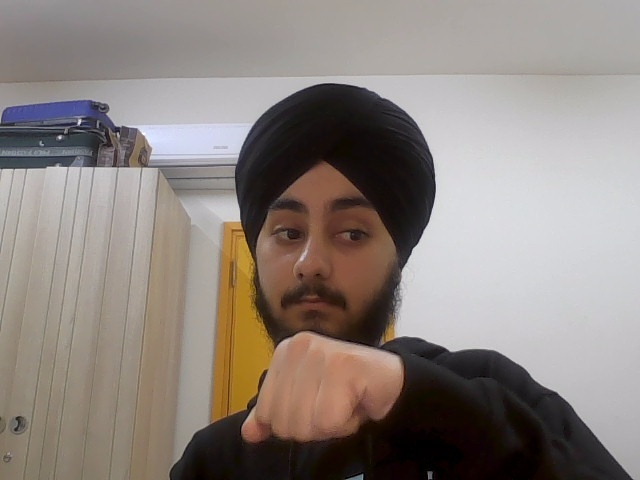Yes: (234, 330, 405, 448)
